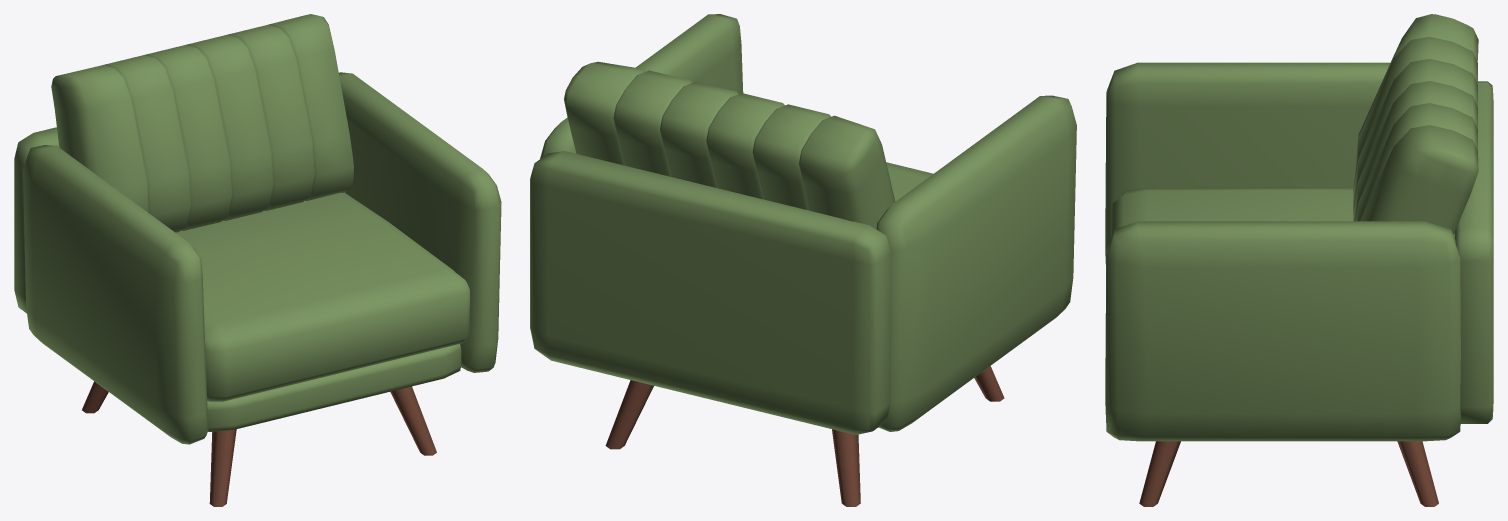
The model's file is Sofa_01_Single.fbx.
The picture shows the model from 3 angles, left to right: view 1: azimuth 30°, elevation 25°; view 2: azimuth 150°, elevation 25°; view 3: azimuth 270°, elevation 25°; orthographic projection. The views are drawn at different scales.
Visible parts, largest first — view 1: Sofa_01_Single; view 2: Sofa_01_Single; view 3: Sofa_01_Single.
Part boxes in pixels (box(x1,y1,x2,y2)): Sofa_01_Single: box(14, 14, 501, 506); Sofa_01_Single: box(530, 14, 1076, 506); Sofa_01_Single: box(1105, 14, 1493, 506).
Bounding box in the file's own units: 0.9933 × 0.9456 × 0.9018.
